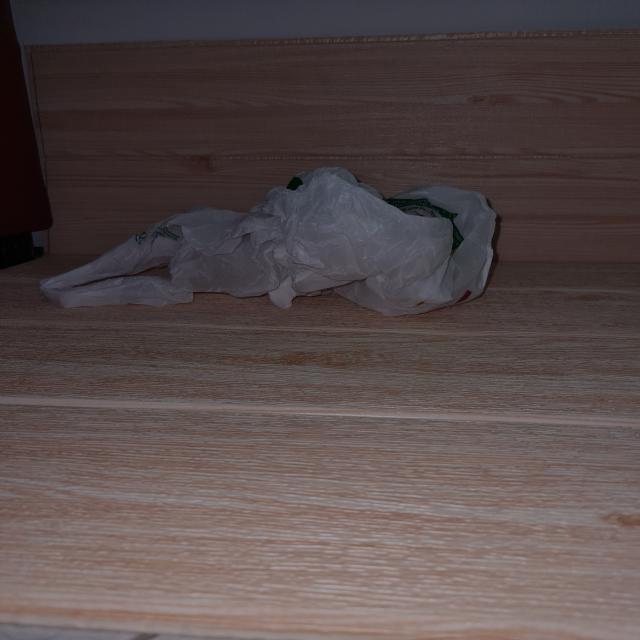Plastic_Bag: (47, 166, 513, 324)
